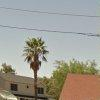Tree: (19, 32, 53, 78)
